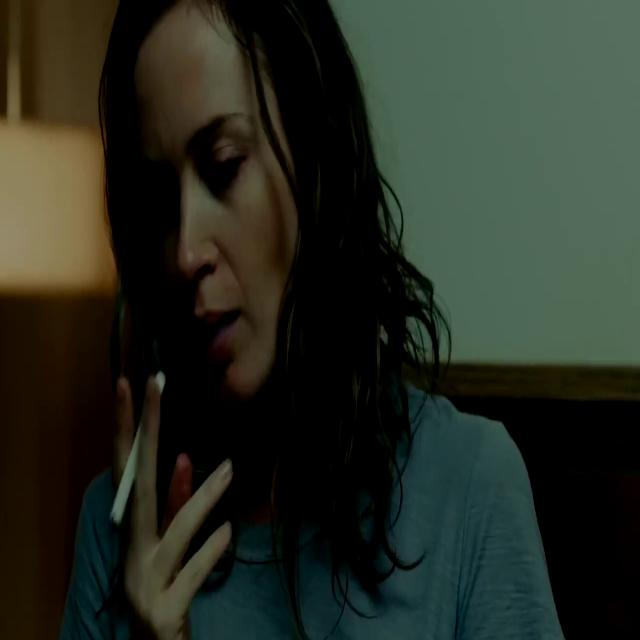Smooking: (101, 356, 171, 529)
